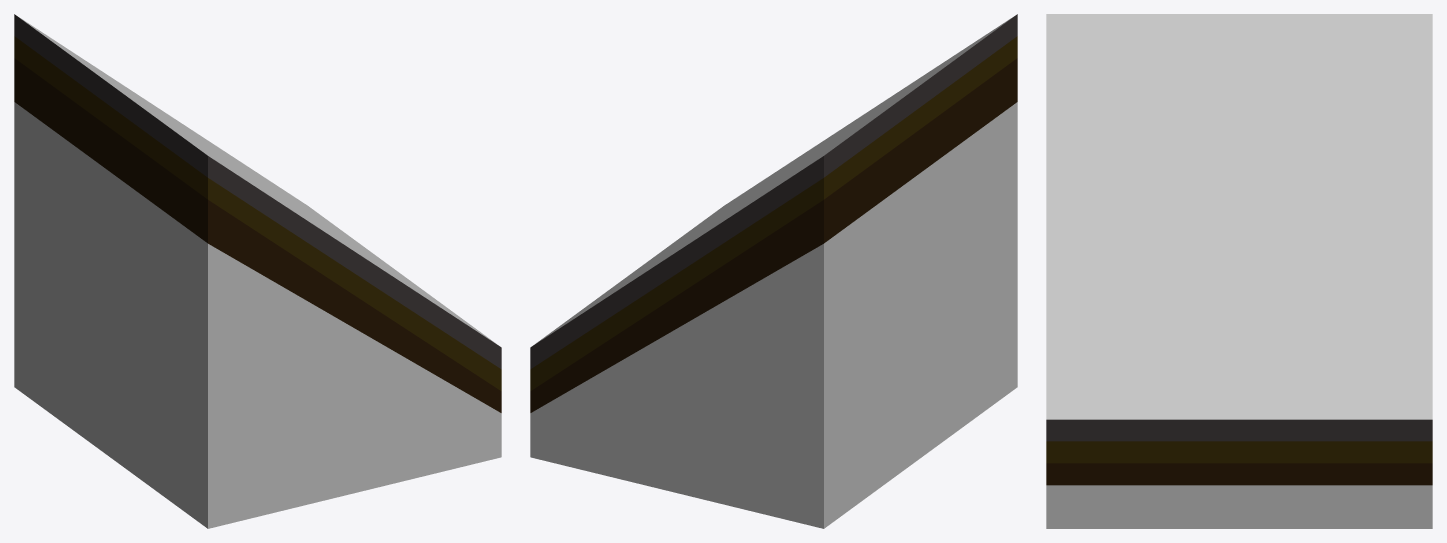
The model's file is model_loc_1637_a.obj.
3 views of the same model, side by side, from view 1: azimuth 30°, elevation 25°; view 2: azimuth 150°, elevation 25°; view 3: azimuth 270°, elevation 25° (orthographic).
Parts seen in each view (by area): view 1: 590; view 2: 590; view 3: 590.
Boxes of the visible parts, x1=… form: 590: x1=14, y1=14, x2=501, y2=528; 590: x1=530, y1=14, x2=1017, y2=528; 590: x1=1046, y1=14, x2=1432, y2=528.
Size of the model in its own units: 112 by 136 by 128.
